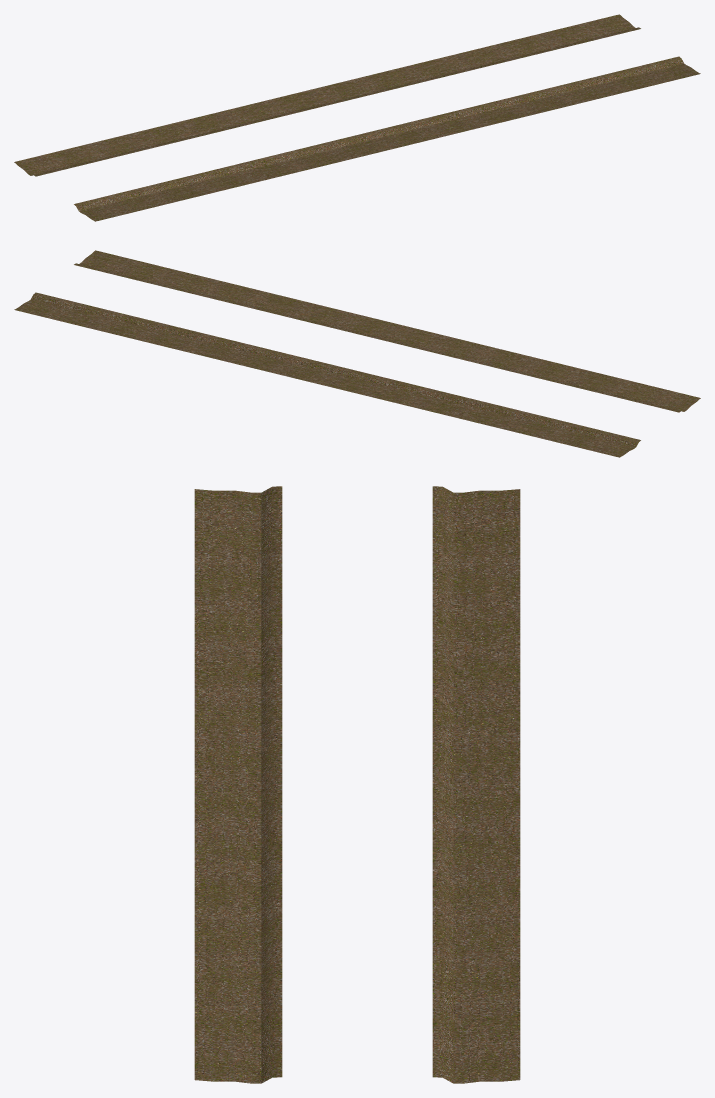
Rendered from SM_0_Landscape_2_512X512.gltf.
3 renders of one model, top to bottom at view 1: azimuth 30°, elevation 25°; view 2: azimuth 150°, elevation 25°; view 3: azimuth 270°, elevation 25°, orthographic. The views are drawn at different scales.
Parts seen in each view (by area): view 1: SM_0_Landscape_2; view 2: SM_0_Landscape_2; view 3: SM_0_Landscape_2.
Part boxes in pixels (box(x1,y1,x2,y2)): SM_0_Landscape_2: box(14, 14, 700, 221); SM_0_Landscape_2: box(14, 250, 700, 457); SM_0_Landscape_2: box(194, 486, 520, 1083).
Size of the model in its own units: 144 by 0.7467 by 33.51.
1 material, 1 textured.
